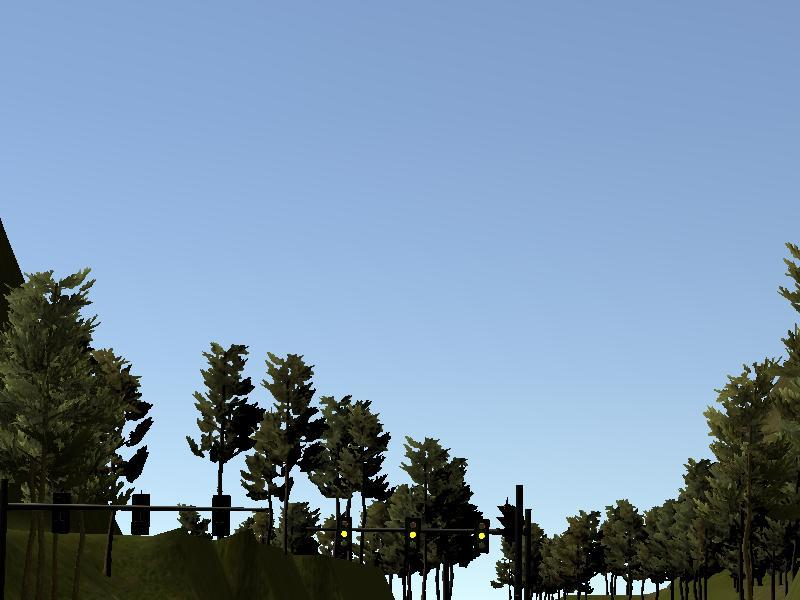Yellow: (406, 518, 420, 552), (475, 520, 489, 553), (338, 517, 351, 551)
